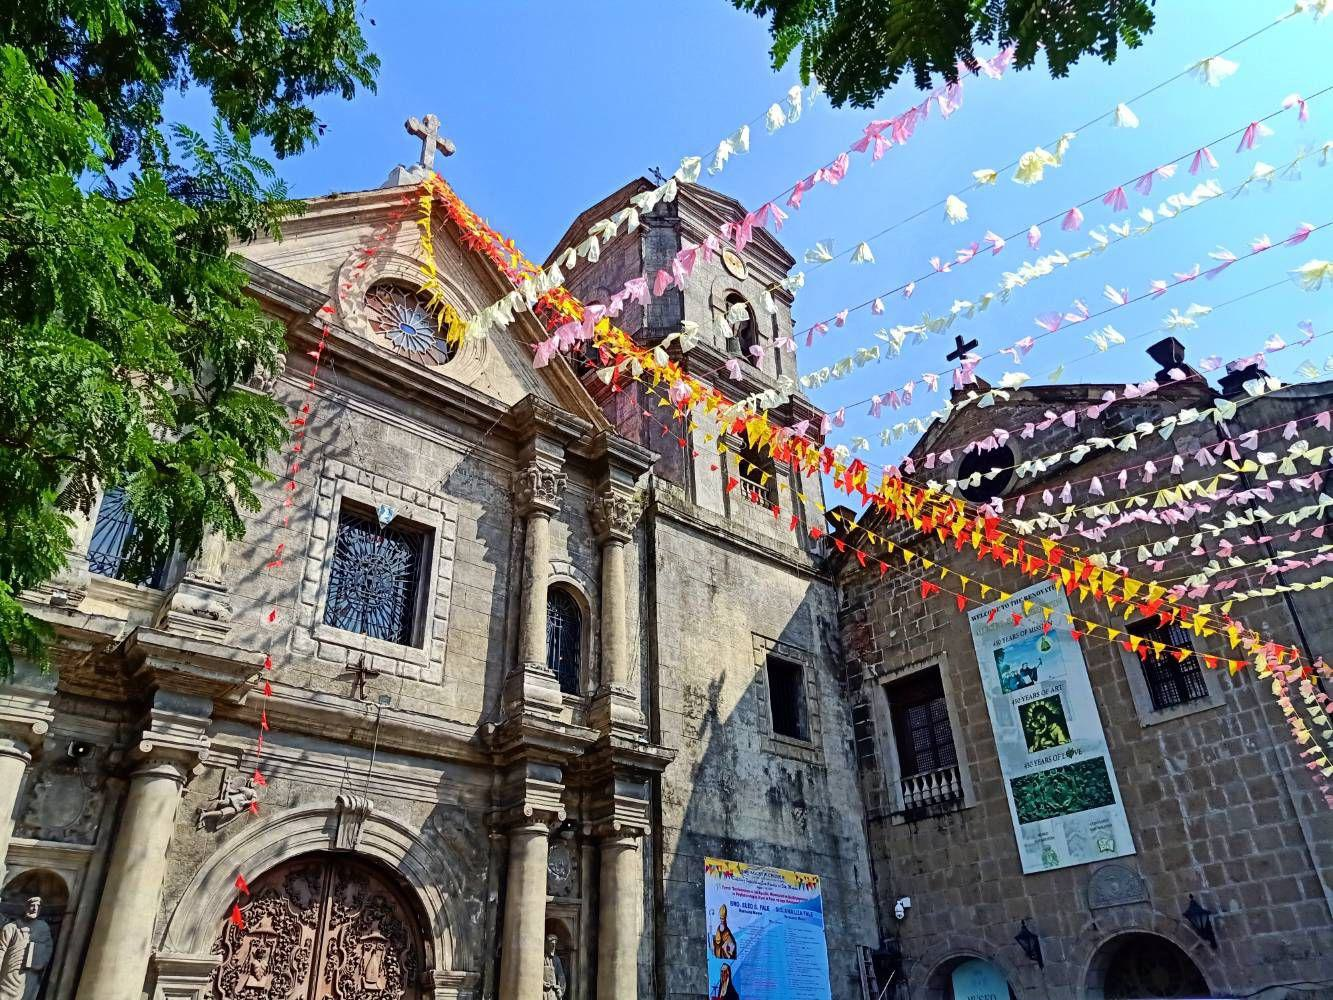san_agustin_church_intramuros_manila: (56, 93, 881, 1000)
